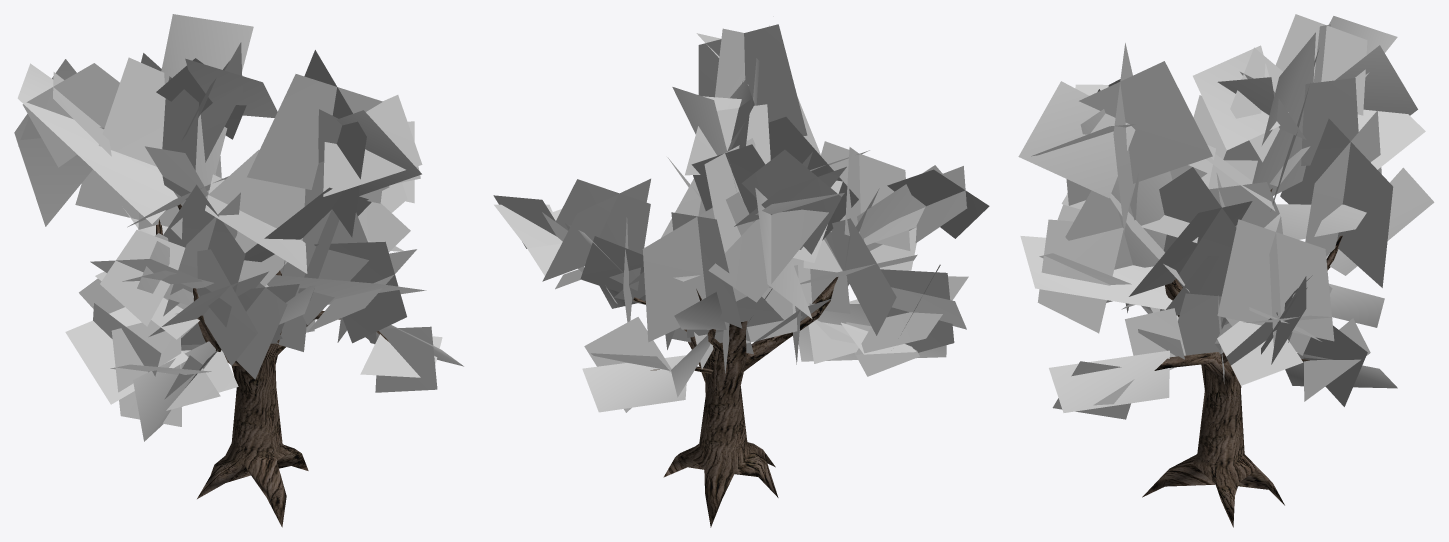
Rendered from Oak_03.fbx.
3 renders of one model, left to right at view 1: azimuth 30°, elevation 25°; view 2: azimuth 150°, elevation 25°; view 3: azimuth 270°, elevation 25°, orthographic. The views are drawn at different scales.
Parts seen in each view (by area): view 1: oak_03; view 2: oak_03; view 3: oak_03.
Boxes of the visible parts, <box> form: oak_03: <box>14,14,463,527</box>; oak_03: <box>493,24,989,527</box>; oak_03: <box>1018,14,1434,527</box>.
Size of the model in its own units: 31.39 by 33.62 by 27.06.
